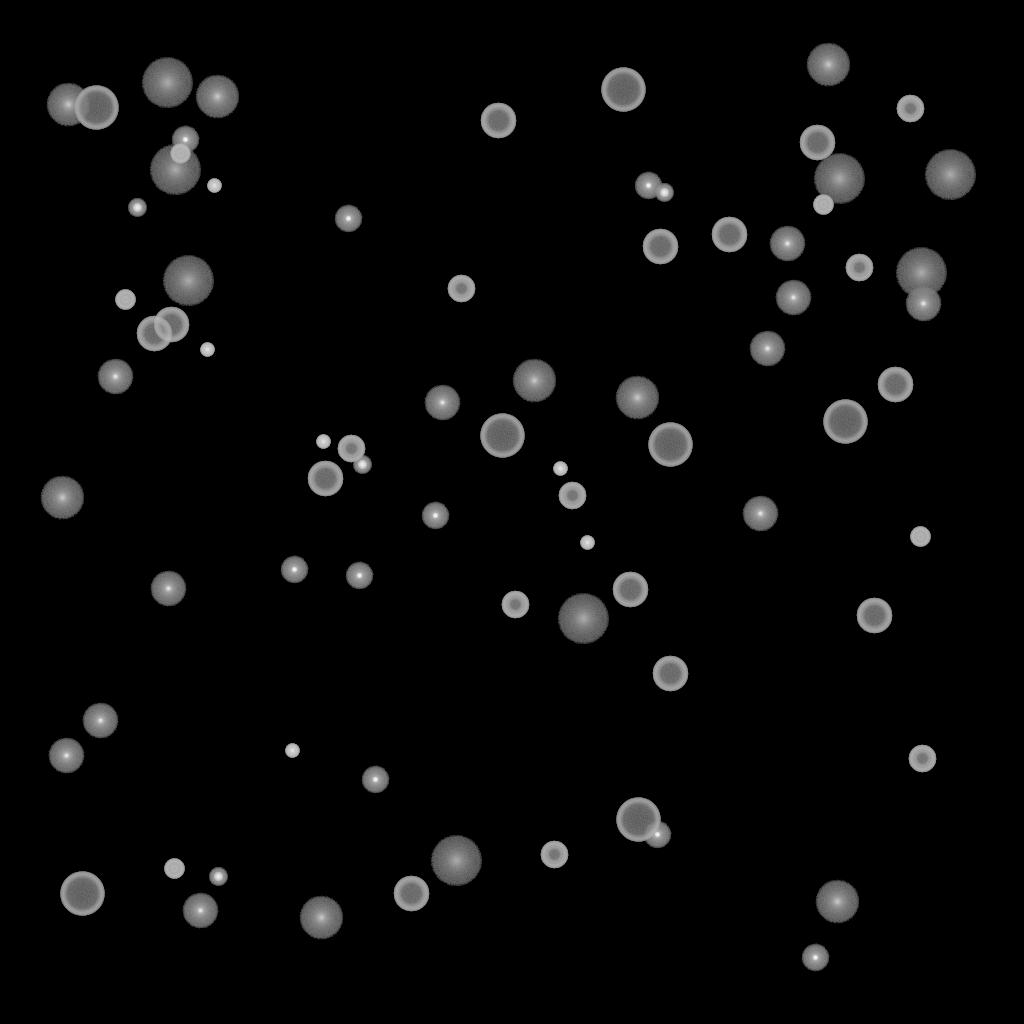depth:-10: (643, 821, 671, 849), (171, 126, 199, 154), (280, 556, 308, 584), (421, 502, 449, 530), (334, 205, 362, 233), (345, 562, 373, 590), (361, 766, 389, 794), (634, 172, 662, 200), (801, 944, 829, 972)
depth:-20: (128, 199, 146, 217), (655, 184, 673, 202), (353, 456, 371, 474), (209, 868, 227, 886)
depth:-30: (285, 744, 299, 758), (316, 435, 330, 449), (200, 343, 214, 357), (207, 179, 221, 193), (580, 536, 594, 550), (553, 462, 567, 476)
depth:-40: (115, 290, 135, 310), (170, 144, 190, 164), (910, 527, 930, 547), (164, 859, 184, 879), (813, 195, 833, 215)
depth:-50: (896, 95, 924, 123), (501, 591, 529, 619), (447, 275, 475, 303), (908, 745, 936, 773), (540, 841, 568, 869), (558, 482, 586, 510), (337, 435, 365, 463), (845, 254, 873, 282)
depth:-60: (136, 316, 172, 352), (877, 367, 913, 403), (612, 572, 648, 608), (711, 217, 747, 253), (307, 461, 343, 497), (153, 307, 189, 343), (480, 103, 516, 139), (393, 876, 429, 912), (642, 229, 678, 265), (856, 598, 892, 634), (652, 656, 688, 692), (799, 125, 835, 161)
depth:-70: (601, 68, 645, 112), (648, 423, 692, 467), (823, 400, 867, 444), (74, 86, 118, 130), (60, 872, 104, 916), (480, 414, 524, 458), (616, 798, 660, 842)
depth:0: (97, 359, 133, 395), (82, 703, 118, 739), (775, 280, 811, 316), (150, 571, 186, 607), (749, 331, 785, 367), (182, 893, 218, 929), (742, 496, 778, 532), (48, 738, 84, 774), (424, 385, 460, 421), (769, 226, 805, 262), (905, 286, 941, 322)
depth:10: (40, 476, 84, 520), (195, 75, 239, 119), (46, 83, 90, 127), (615, 376, 659, 420), (806, 43, 850, 87), (299, 896, 343, 940), (815, 880, 859, 924), (512, 359, 556, 403)
depth:20: (813, 154, 865, 204), (924, 150, 976, 200), (430, 836, 482, 886), (895, 248, 947, 298), (141, 58, 193, 108), (149, 145, 201, 195), (162, 256, 214, 306), (557, 594, 609, 644)
